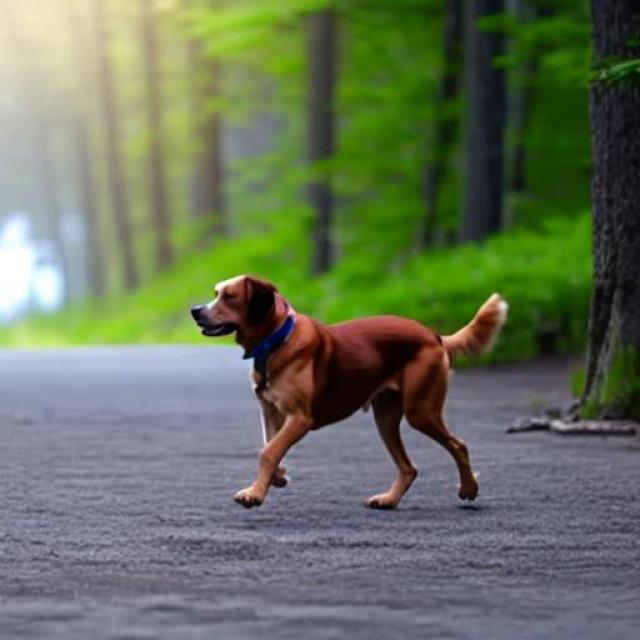Dog: (191, 275, 509, 509)
